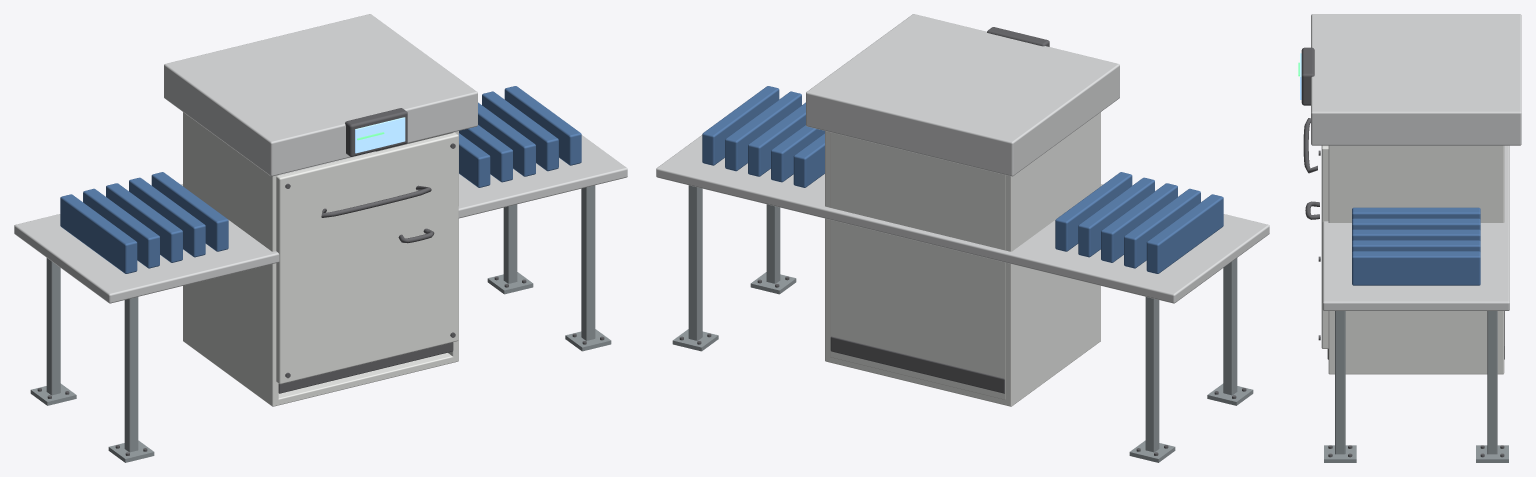
Rendered from prison-complex-builder-dishwasher-line-90aee62d__25666.glb.
3 views of the same model, side by side, from view 1: azimuth 30°, elevation 25°; view 2: azimuth 150°, elevation 25°; view 3: azimuth 270°, elevation 25° (orthographic). The views are drawn at different scales.
Visible parts, largest first — view 1: dishwasher-line, door-1/plasticWhite; view 2: dishwasher-line; view 3: dishwasher-line, door-1/plasticWhite.
Boxes of the visible parts, <box> form: dishwasher-line: <box>14,14,627,462</box>; door-1/plasticWhite: <box>276,132,458,384</box>; dishwasher-line: <box>656,14,1269,462</box>; dishwasher-line: <box>1298,14,1521,462</box>; door-1/plasticWhite: <box>1321,145,1328,348</box>.
Size of the model in its own units: 2.5 by 1.35 by 0.9545.
